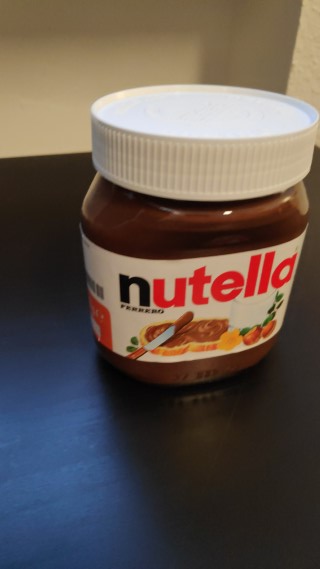nutella: (78, 82, 320, 395)
